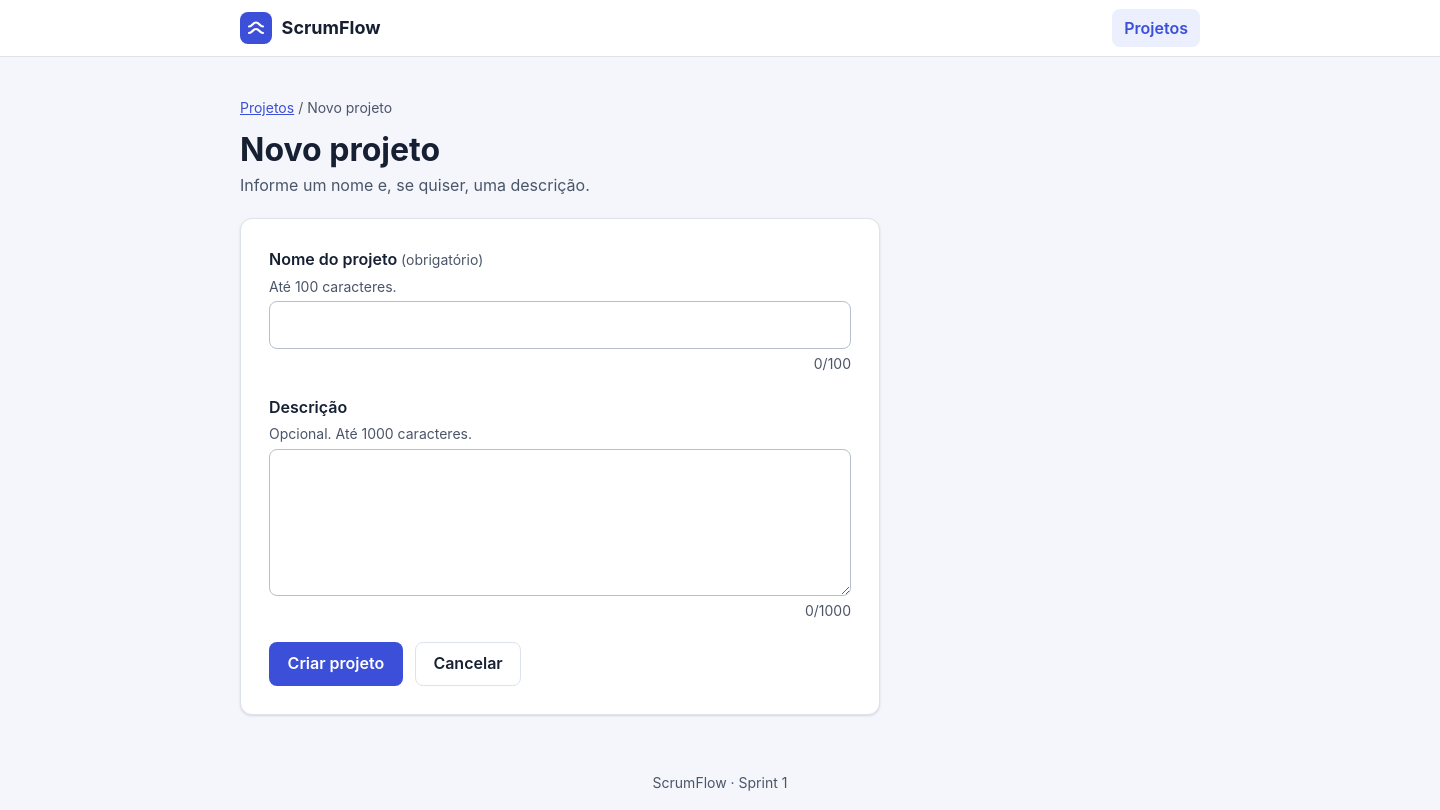
Test case: Criação de projeto › falha de comunicação: mostra erro, NÃO mostra sucesso e preserva o que foi digitado (AC06)
Click the field labelled "Nome do projeto (obrigatório)" at point(560, 325), box [269,301,851,349]
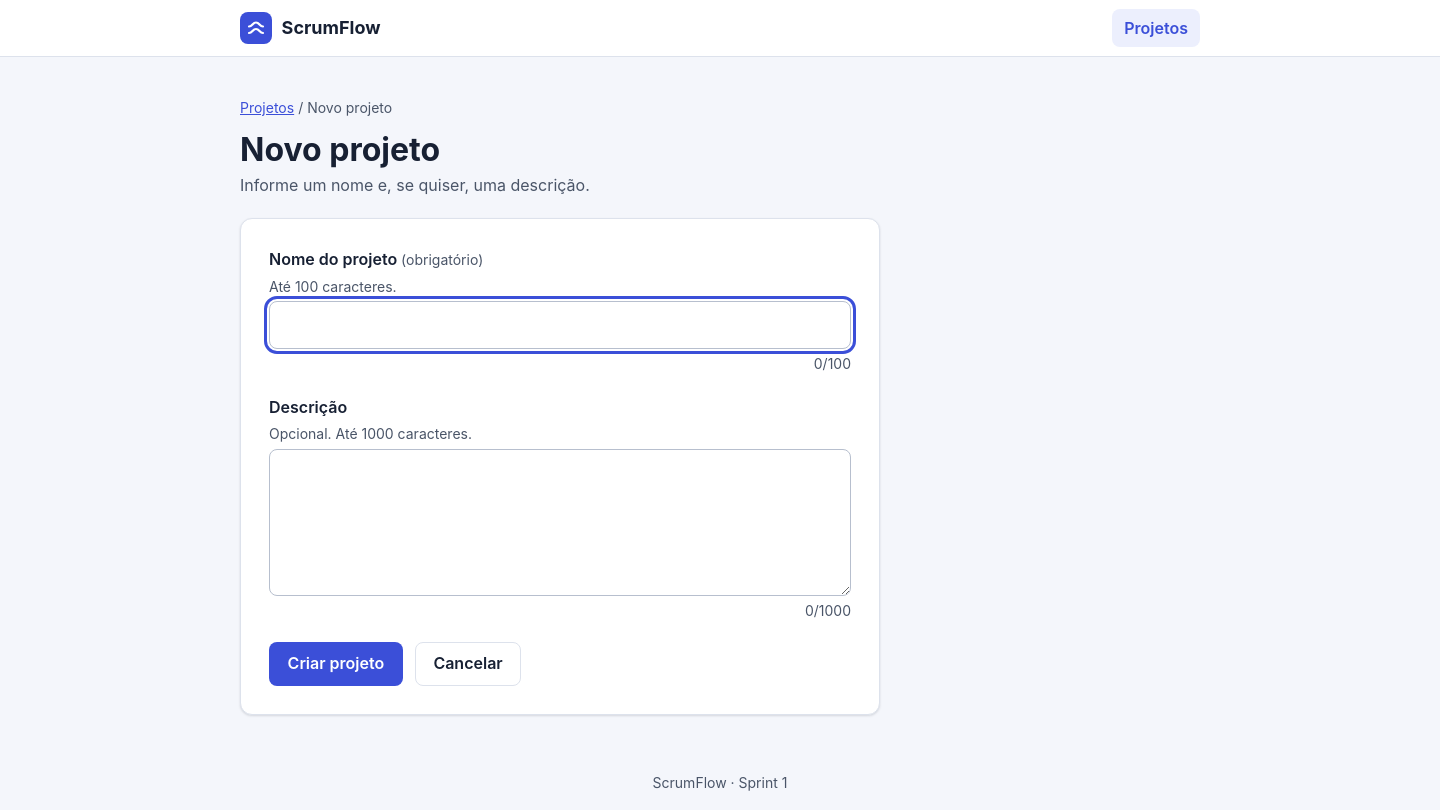
Type keys "Alfa"
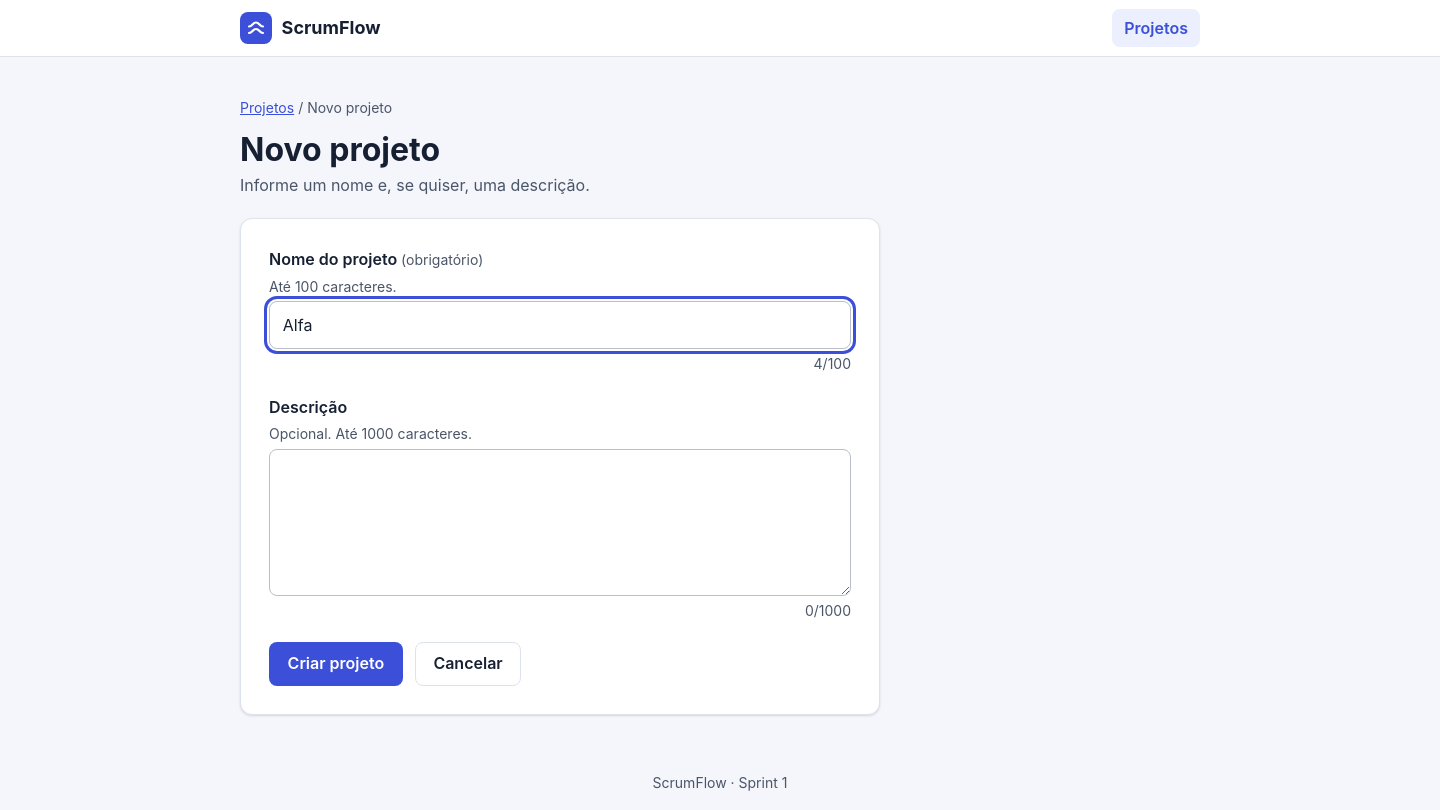
Click the text box labelled "Descrição" at point(560, 522), box [269,449,851,596]
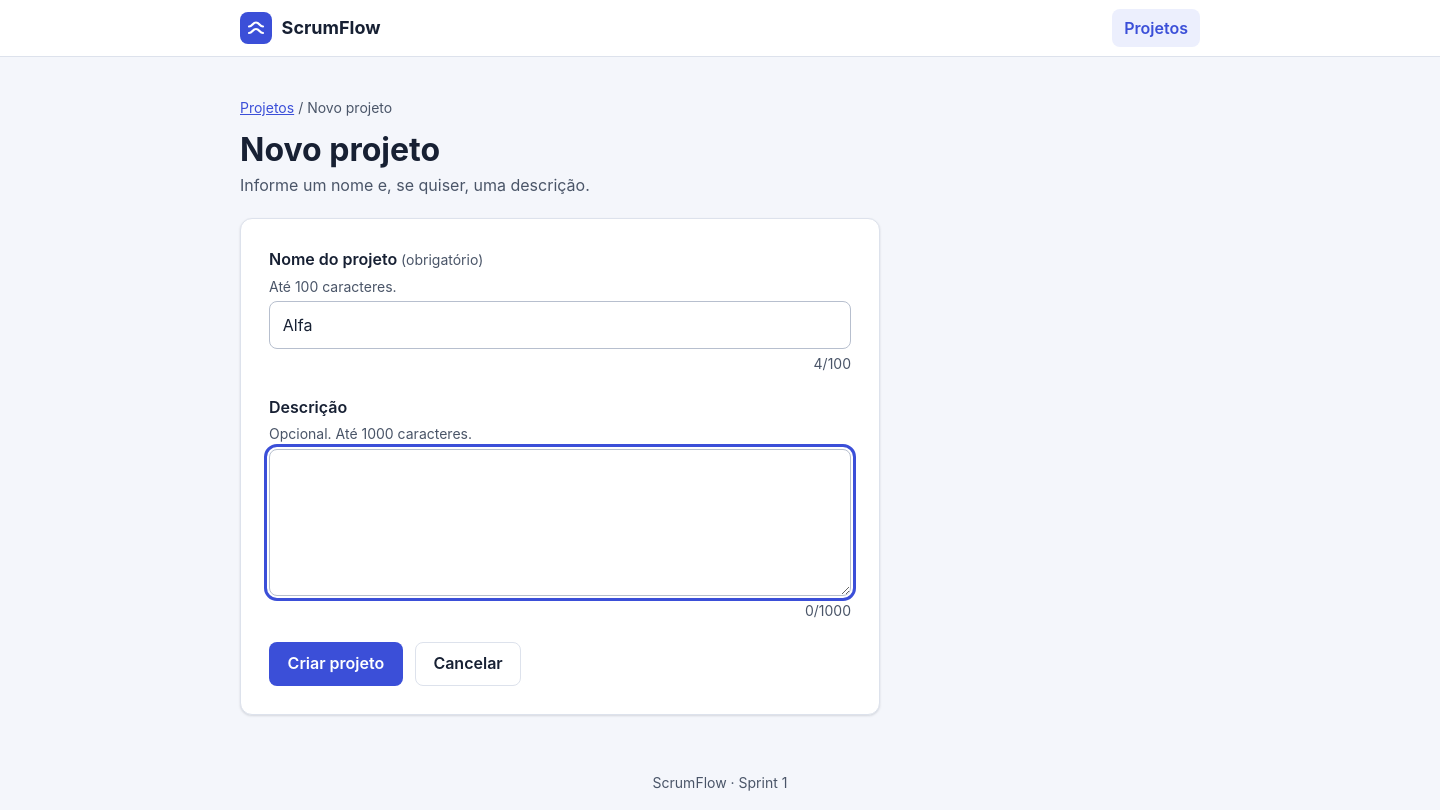
Type keys "Texto"
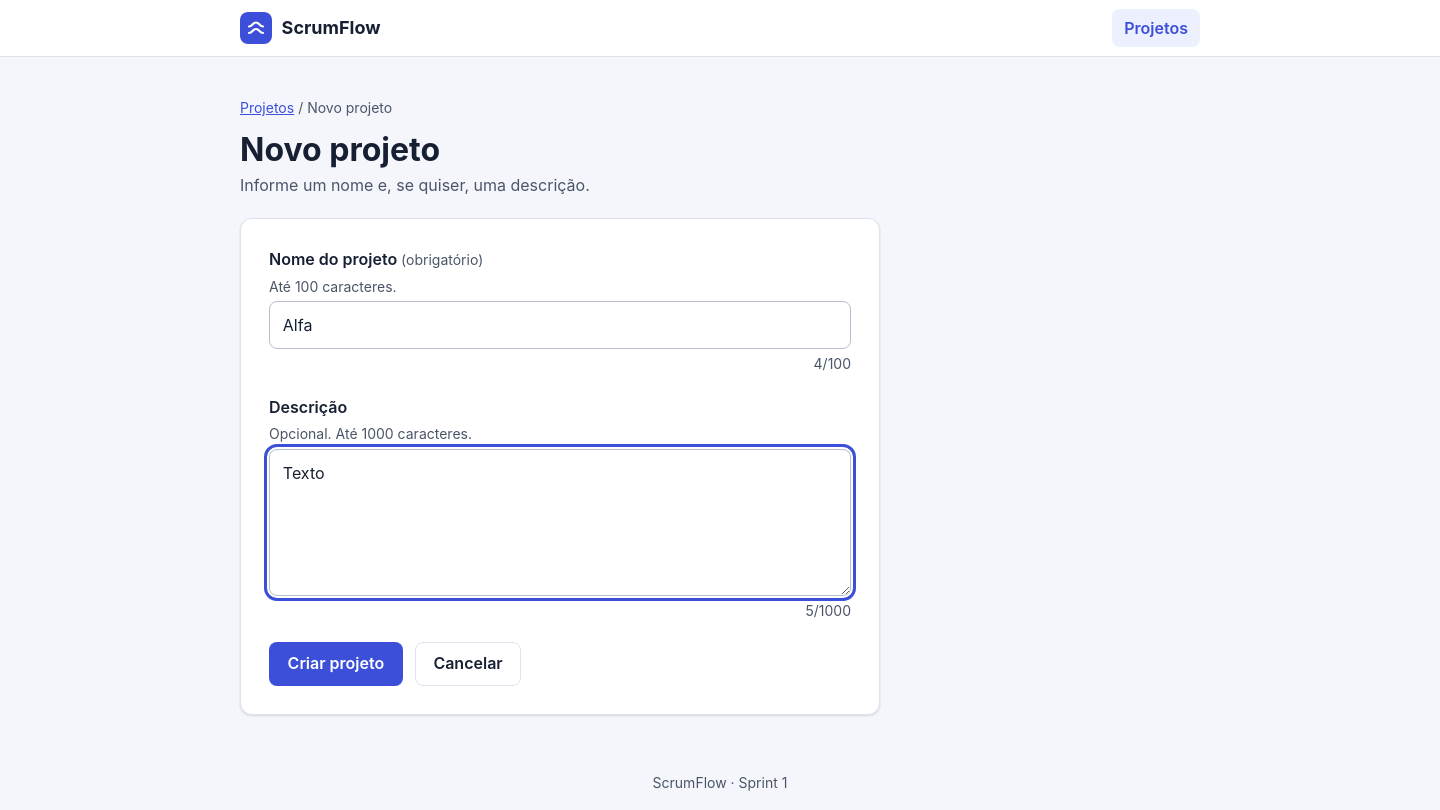
Click the button "Criar projeto" at point(336, 664), box [269,642,403,686]
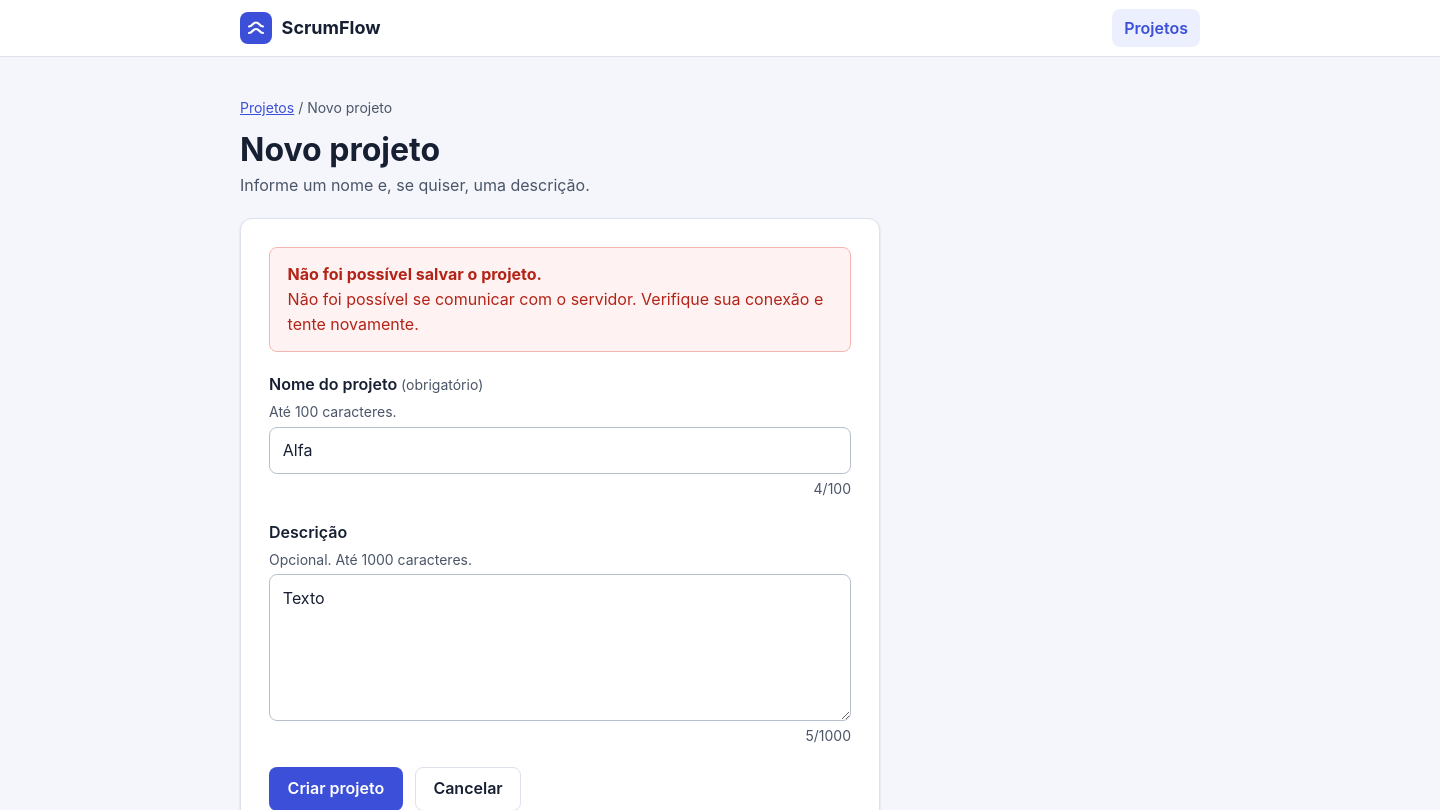
Result: the field labelled "Nome do projeto (obrigatório)" holds "Alfa" at [269,426,851,474]
Result: the message shows "Não foi possível salvar o projeto." at [288,264,542,284]
Result: the message shows "Não foi possível se comunicar com o servidor" at [288,289,823,334]
